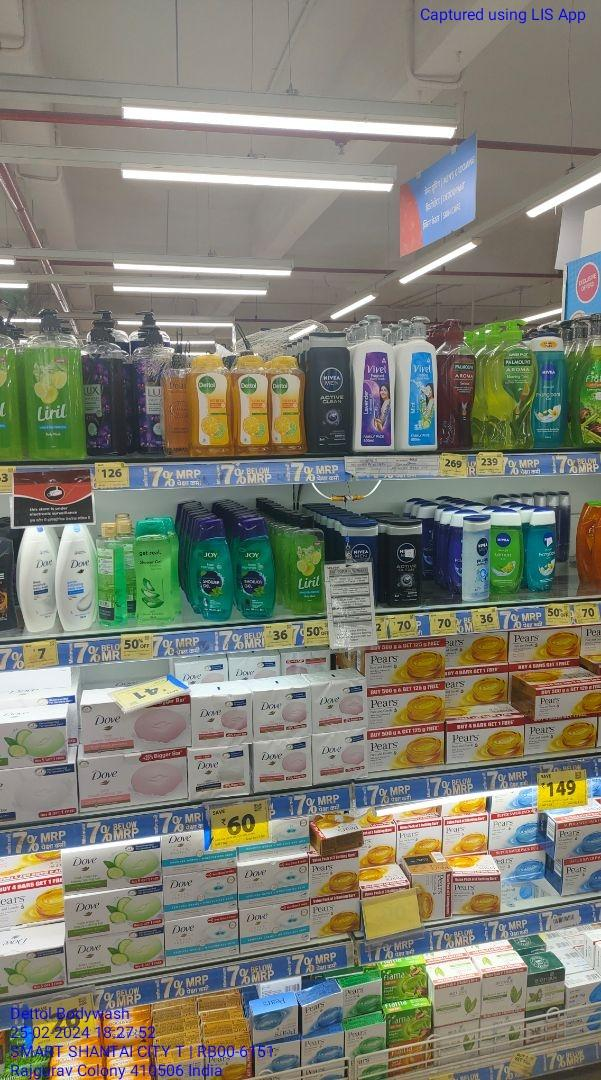Dettol_Bodywash_Refresh: (189, 353, 231, 455), (234, 355, 270, 453), (271, 356, 304, 454)
Dove_Deep_Moisture_Body_Wash_250ML: (18, 528, 55, 633)
Dove_Gentle_Exfoliating_Body_Wash_250ML: (58, 522, 98, 631)
Joy_Shower_Gel_Mint_and_Eucalyptus_250ML: (236, 518, 274, 618), (196, 520, 233, 621)
Liril_Lime_and_Tea_Tree_Oil_Body_Wash_250ML: (289, 515, 326, 615)
Nivea_Shower_Gel_Frangipani_and_Oil_250ML: (533, 330, 566, 449), (531, 511, 560, 591)
Nivea_Shower_Gel_Lemon_and_Oil_250ML: (493, 510, 523, 592)
